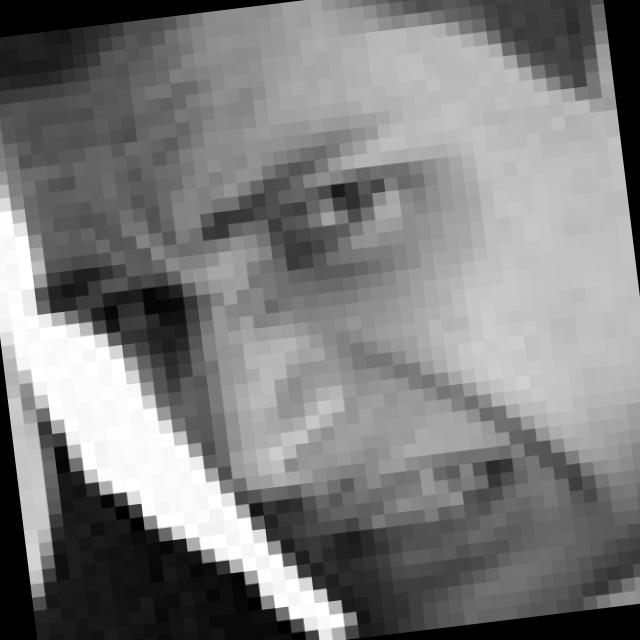disgust: (65, 106, 532, 609)
